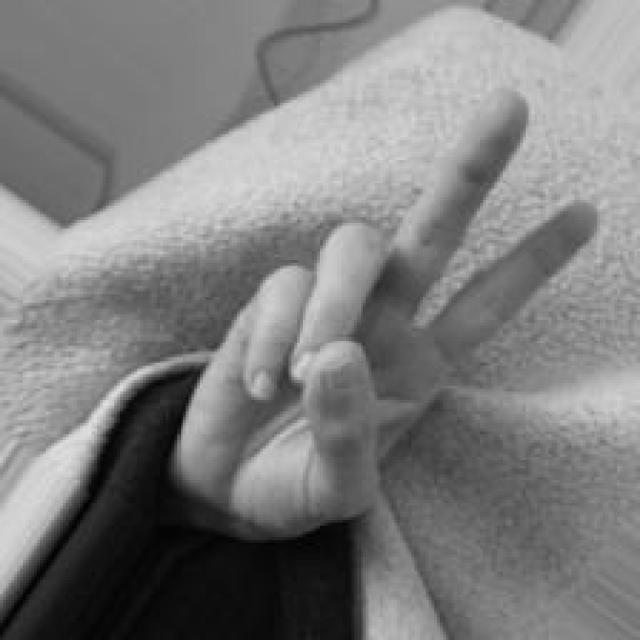V: (168, 86, 600, 534)
